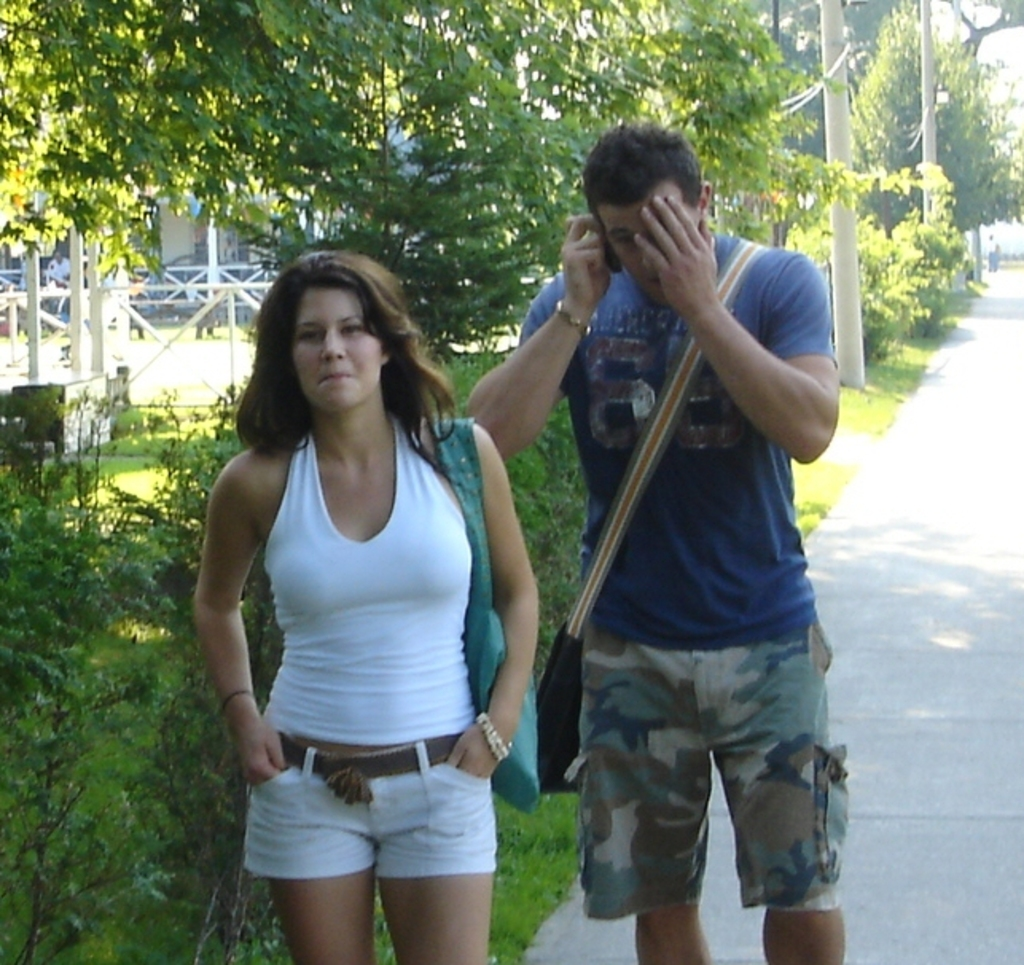Human_hand: (634, 196, 718, 318), (556, 217, 615, 312), (234, 721, 291, 785), (448, 723, 502, 776)
